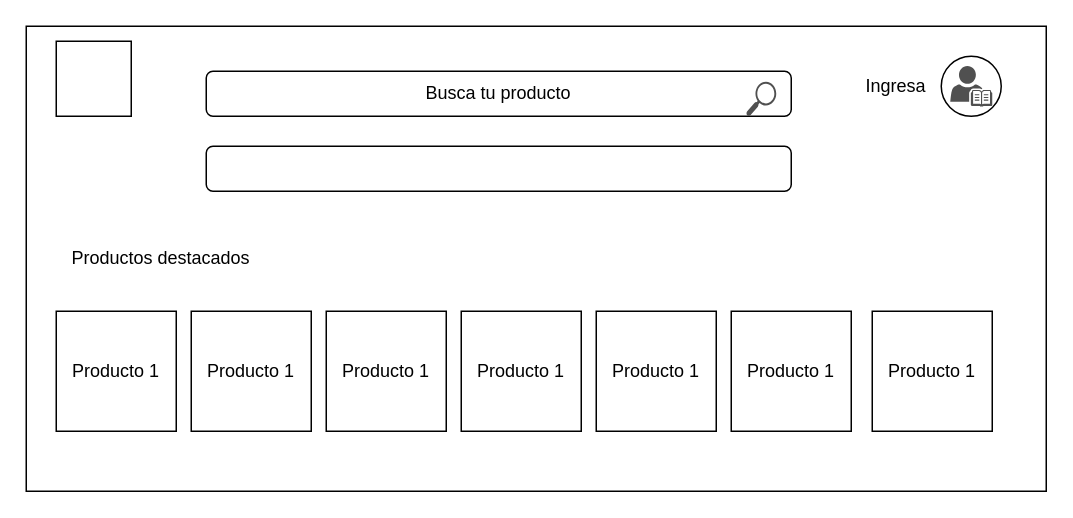
This 1073x518 diagram has some shape labels left out. Each missing label, with the centre of its shape:
Logo: the point at 93,78
Quieres vender?: the point at 498,168
